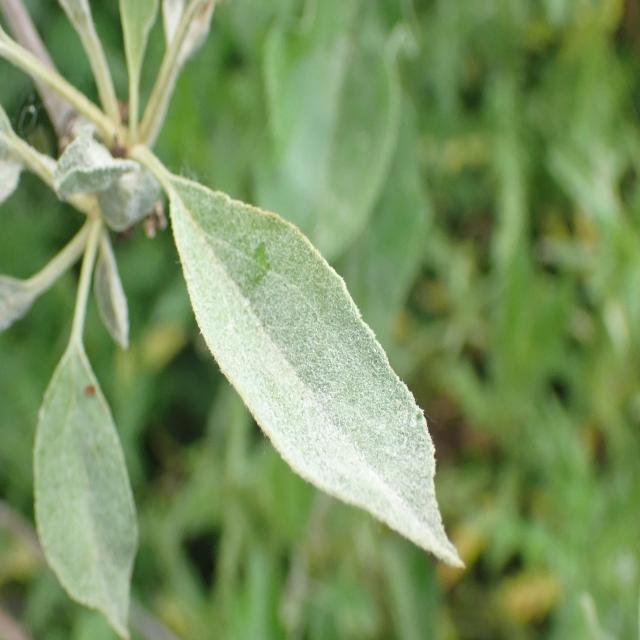Powdery_mildew: (164, 172, 472, 574), (31, 342, 156, 632), (67, 121, 161, 238), (162, 0, 222, 113), (109, 0, 160, 110), (87, 244, 138, 348), (0, 249, 44, 333)
